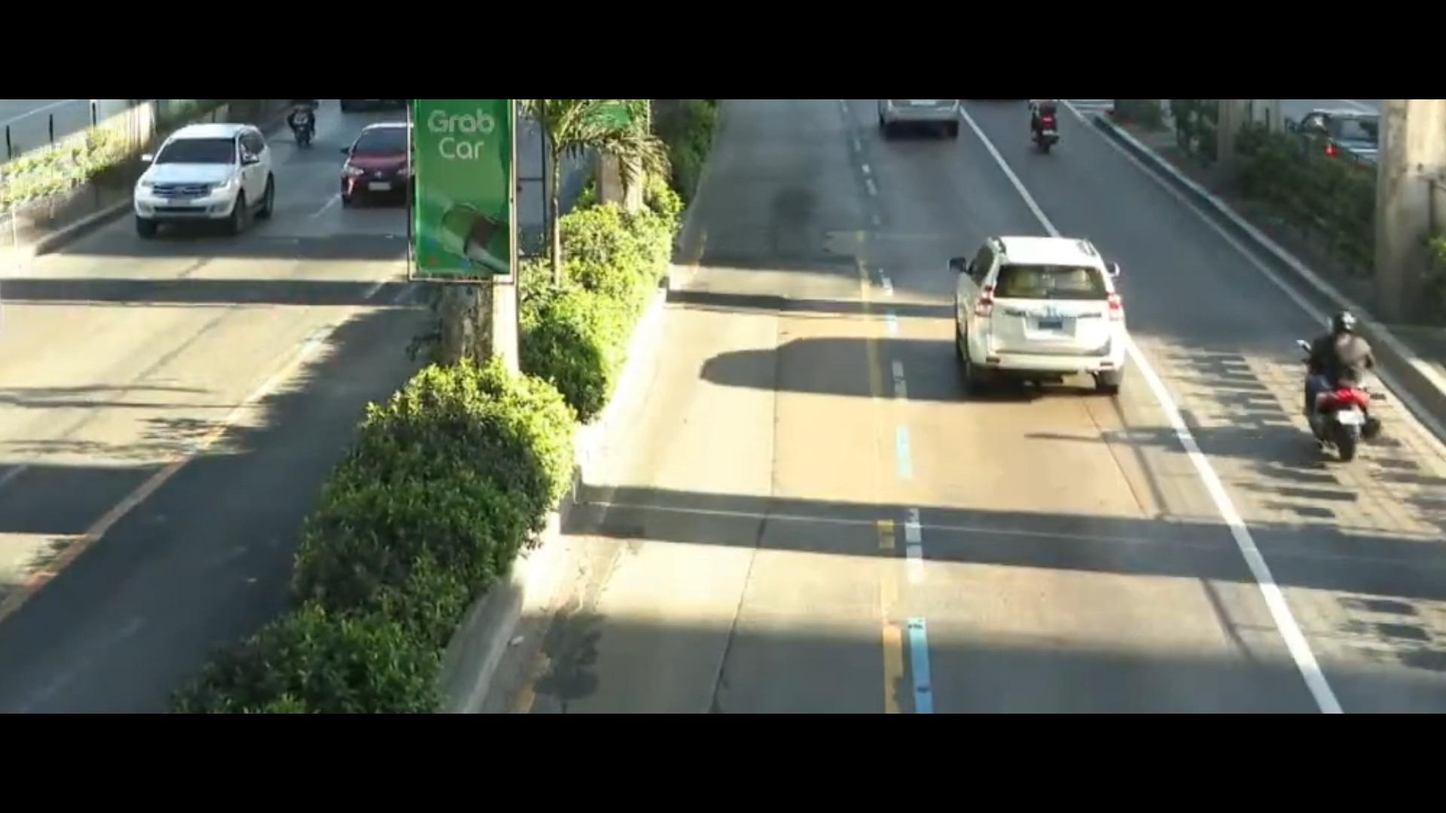Motorcycle: (1286, 283, 1399, 485), (1012, 96, 1075, 149), (272, 94, 324, 146)
SUV: (923, 209, 1165, 404), (128, 115, 288, 243)
Sedan: (328, 118, 424, 215)
